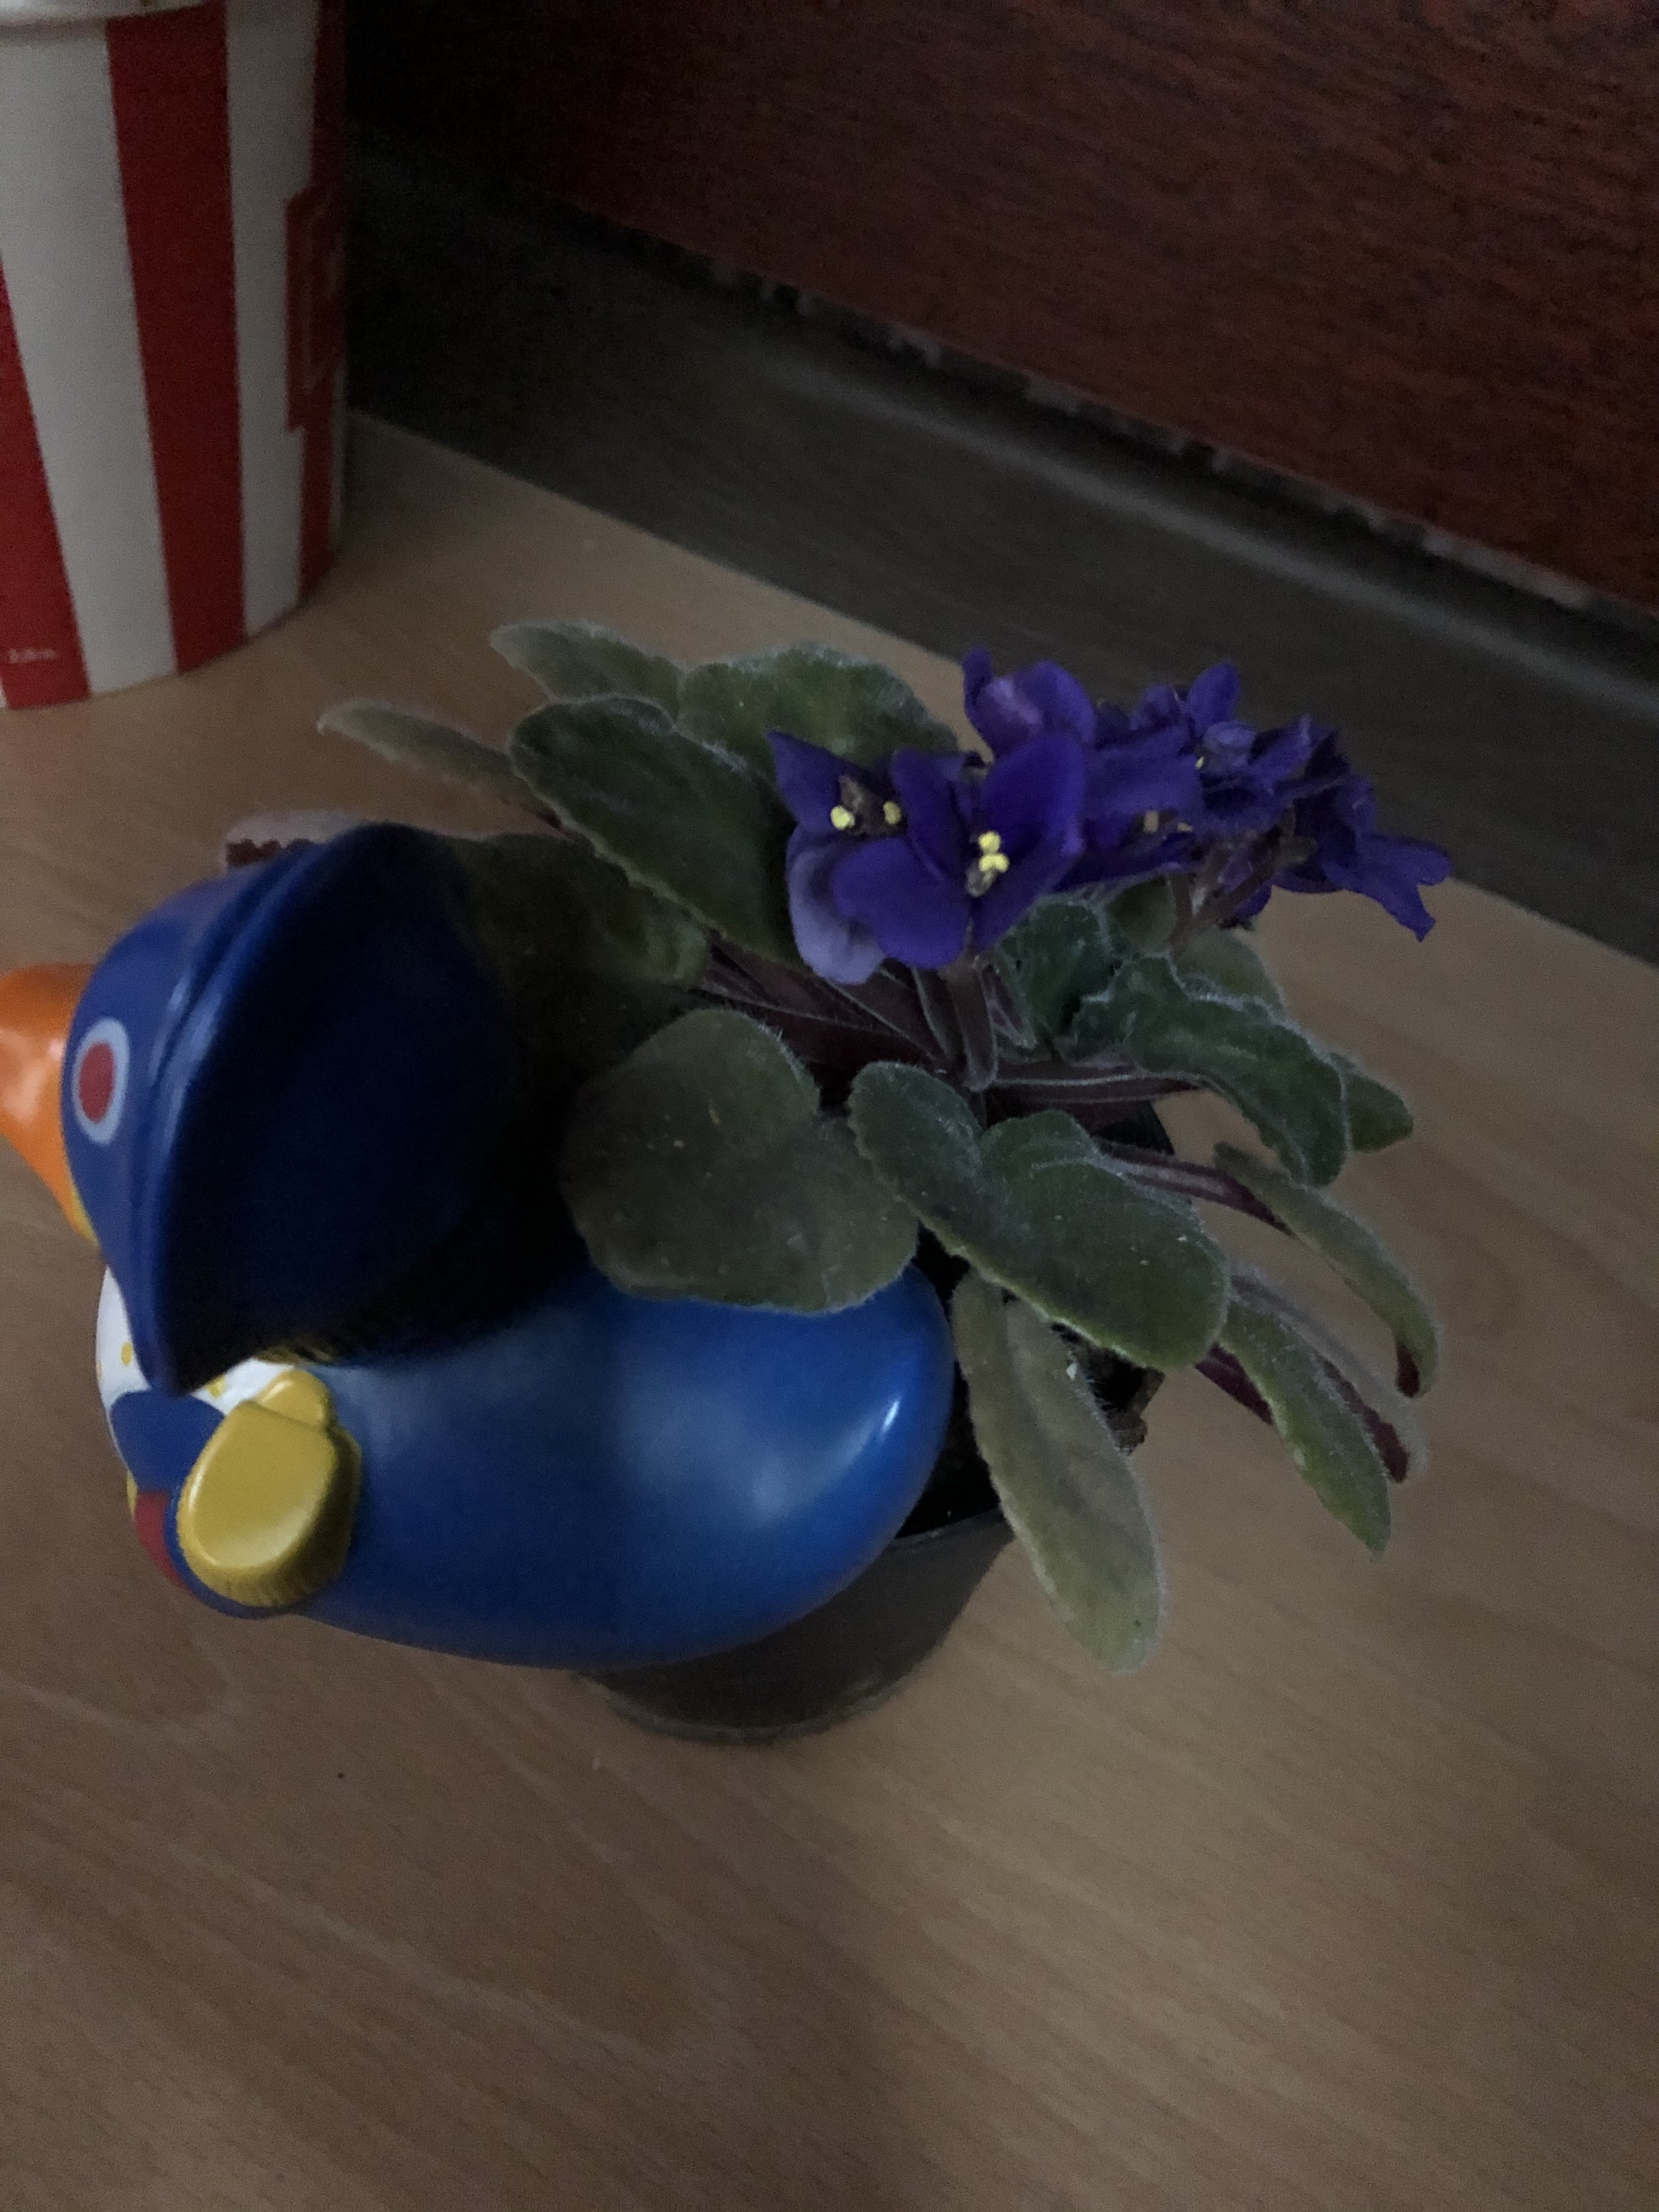ignore: (486, 603, 1471, 1521)
